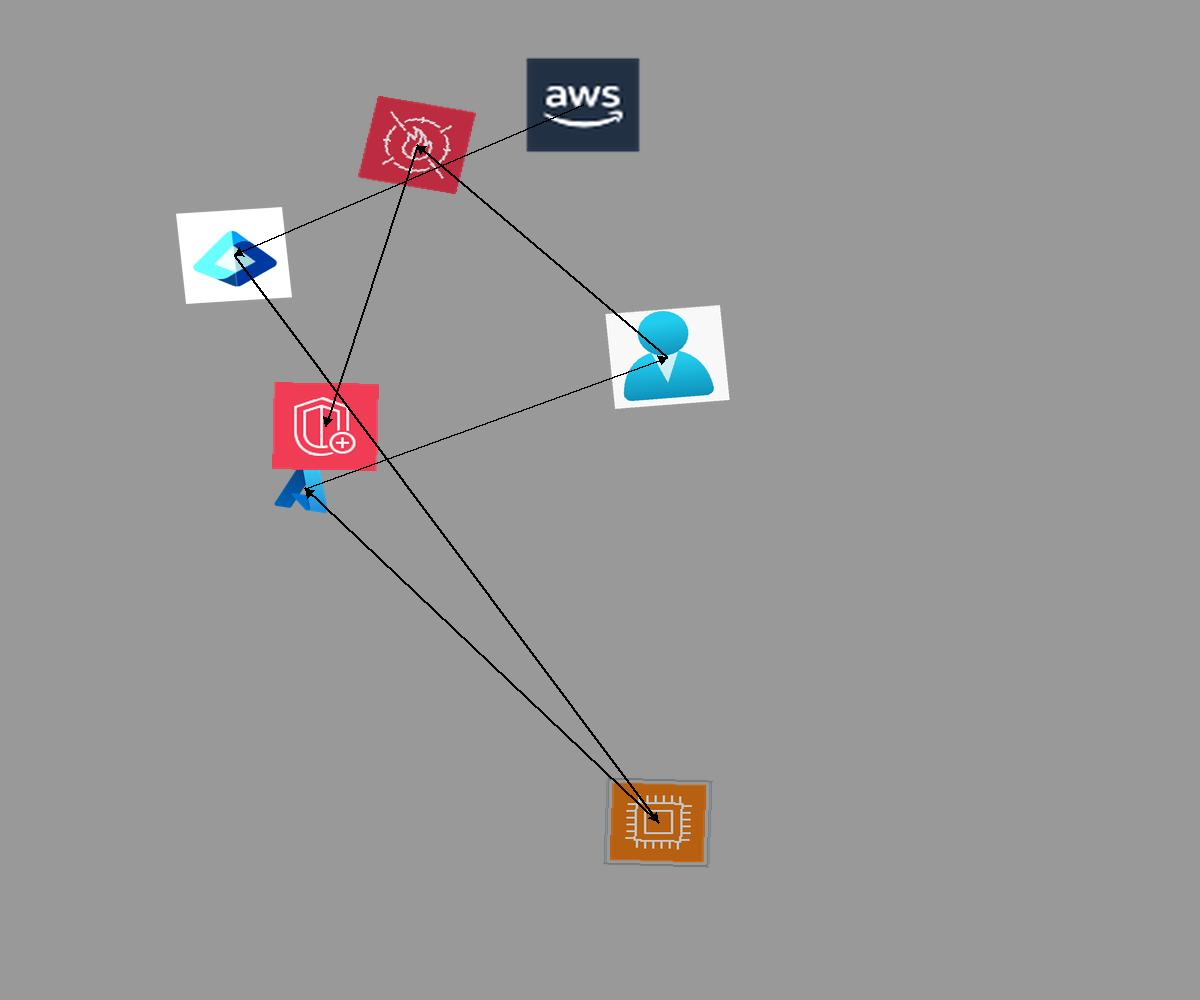AWS-Category_Compute: (603, 777, 713, 868)
AWS-Cloud-logo: (524, 56, 642, 154)
AWS-Shield: (272, 382, 379, 471)
AWS-WAF: (357, 95, 477, 195)
Azure_microsoft_entra: (176, 207, 292, 304)
Azure_services: (271, 460, 339, 517)
Azure_users: (605, 305, 730, 409)
